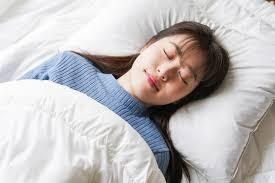Drowsy: (117, 2, 235, 116)
